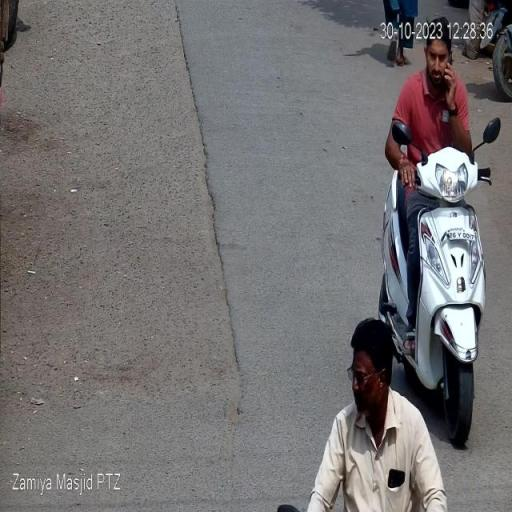using mobile: (446, 47, 456, 97)
